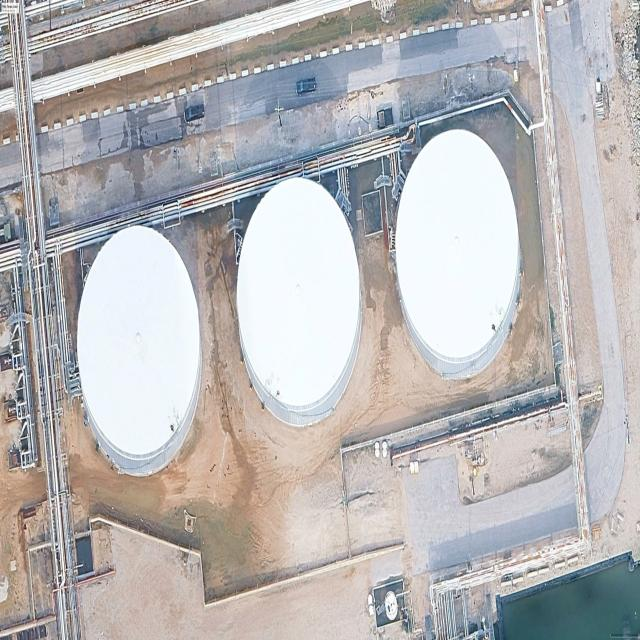Oil Rafinery: (395, 129, 521, 378), (77, 226, 202, 476), (237, 178, 361, 426)
